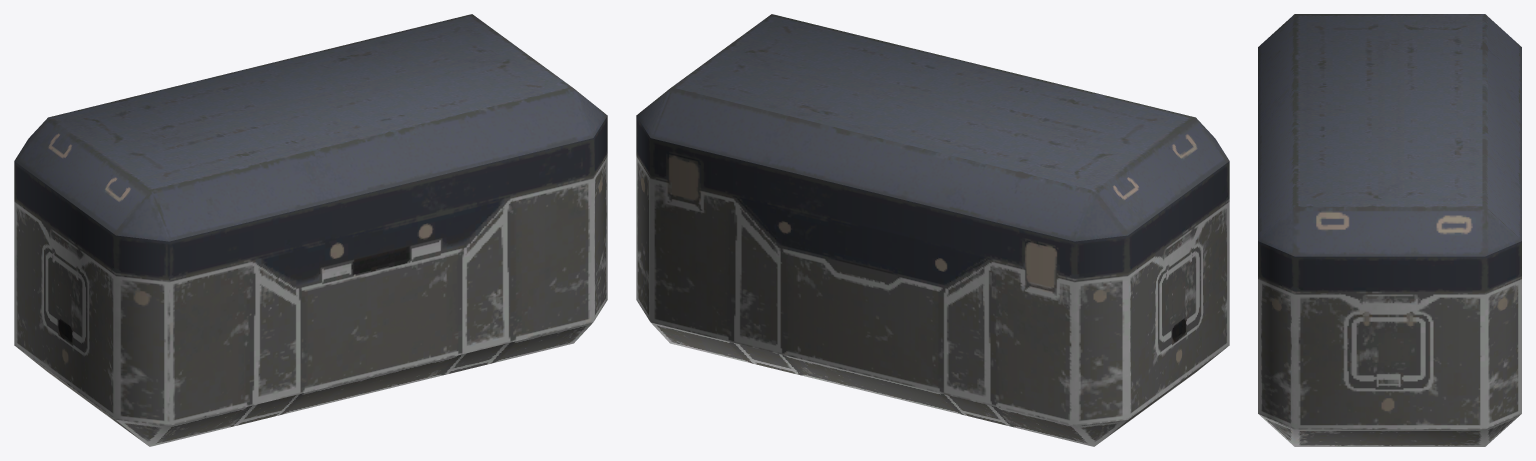
The model's file is SM_crate_cover_b.fbx.
3 views of the same model, side by side, from view 1: azimuth 30°, elevation 25°; view 2: azimuth 150°, elevation 25°; view 3: azimuth 270°, elevation 25° (orthographic). The views are drawn at different scales.
Parts seen in each view (by area): view 1: crates_lp_Mesh2; view 2: crates_lp_Mesh2; view 3: crates_lp_Mesh2.
Boxes of the visible parts, bbox=[...] form: crates_lp_Mesh2: bbox=[14, 14, 607, 446]; crates_lp_Mesh2: bbox=[636, 14, 1229, 446]; crates_lp_Mesh2: bbox=[1258, 14, 1521, 446].
Bounding box in the file's own units: 2.02 × 1 × 1.
